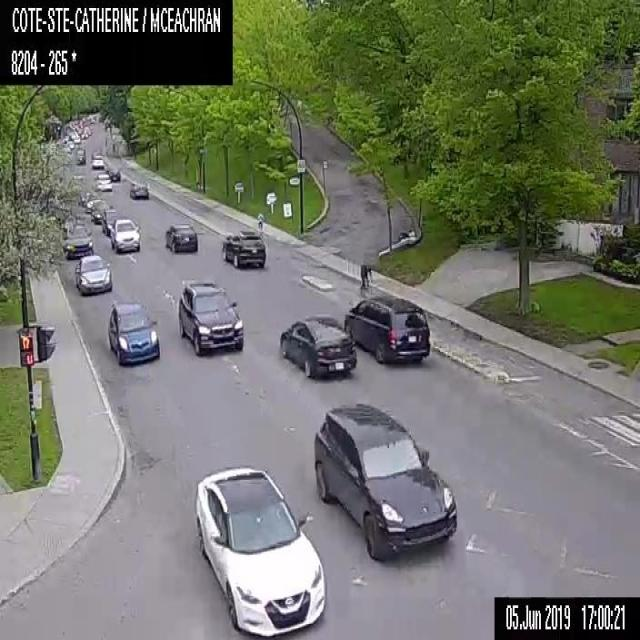cyclist: (359, 263, 372, 296)
pedestrian: (256, 210, 263, 230)
vehicle: (312, 400, 458, 563), (193, 462, 326, 638), (344, 295, 430, 362), (177, 280, 244, 356), (280, 313, 356, 377), (107, 297, 160, 364), (221, 227, 266, 268), (74, 254, 111, 294), (162, 220, 197, 253), (61, 223, 93, 259), (110, 217, 140, 251), (90, 199, 113, 224), (101, 208, 122, 235), (128, 177, 149, 199), (84, 192, 102, 212), (94, 173, 112, 190), (105, 166, 120, 182), (91, 153, 104, 168), (74, 147, 86, 163), (78, 189, 90, 204), (66, 139, 74, 149), (84, 126, 92, 134), (73, 135, 80, 143), (80, 131, 88, 137)
